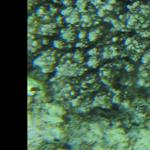dead: (28, 1, 147, 145)
